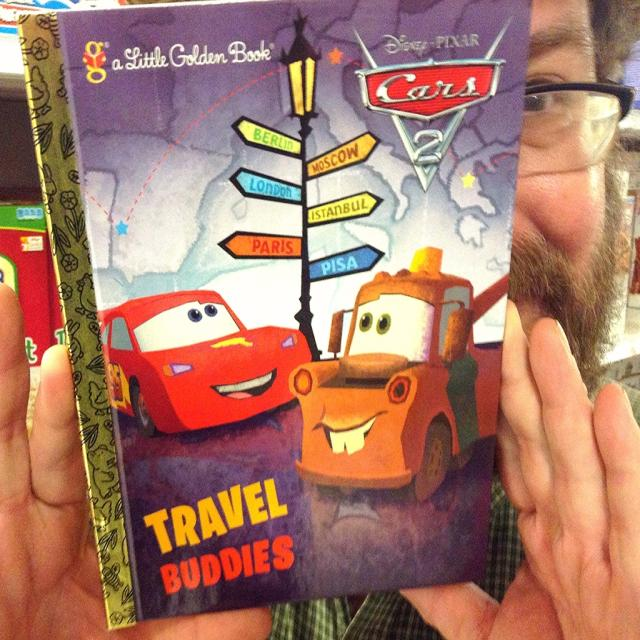Toy: (313, 274, 507, 495), (95, 290, 312, 439)
